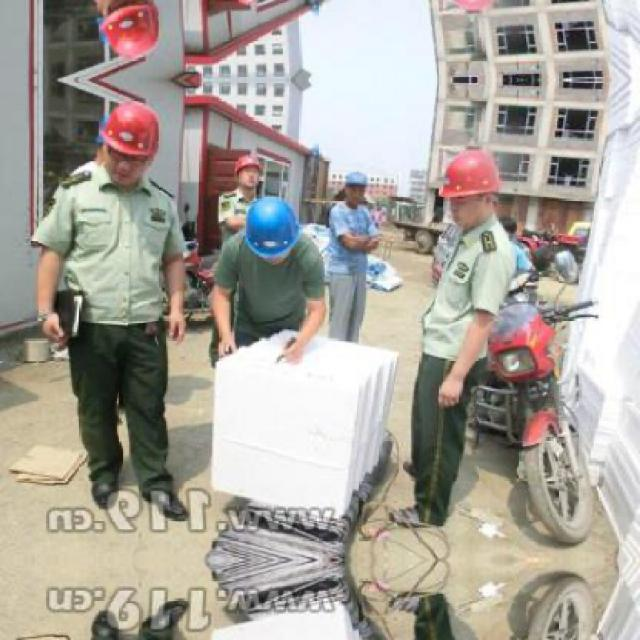helmet: (440, 146, 503, 231), (102, 100, 163, 186), (242, 196, 302, 262), (100, 0, 163, 62), (232, 154, 262, 188), (343, 169, 369, 203), (232, 0, 263, 8)
